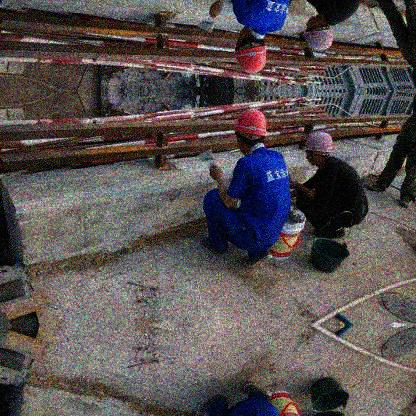helmet: (232, 107, 272, 157), (233, 29, 272, 71), (301, 15, 336, 52), (303, 131, 332, 170)
